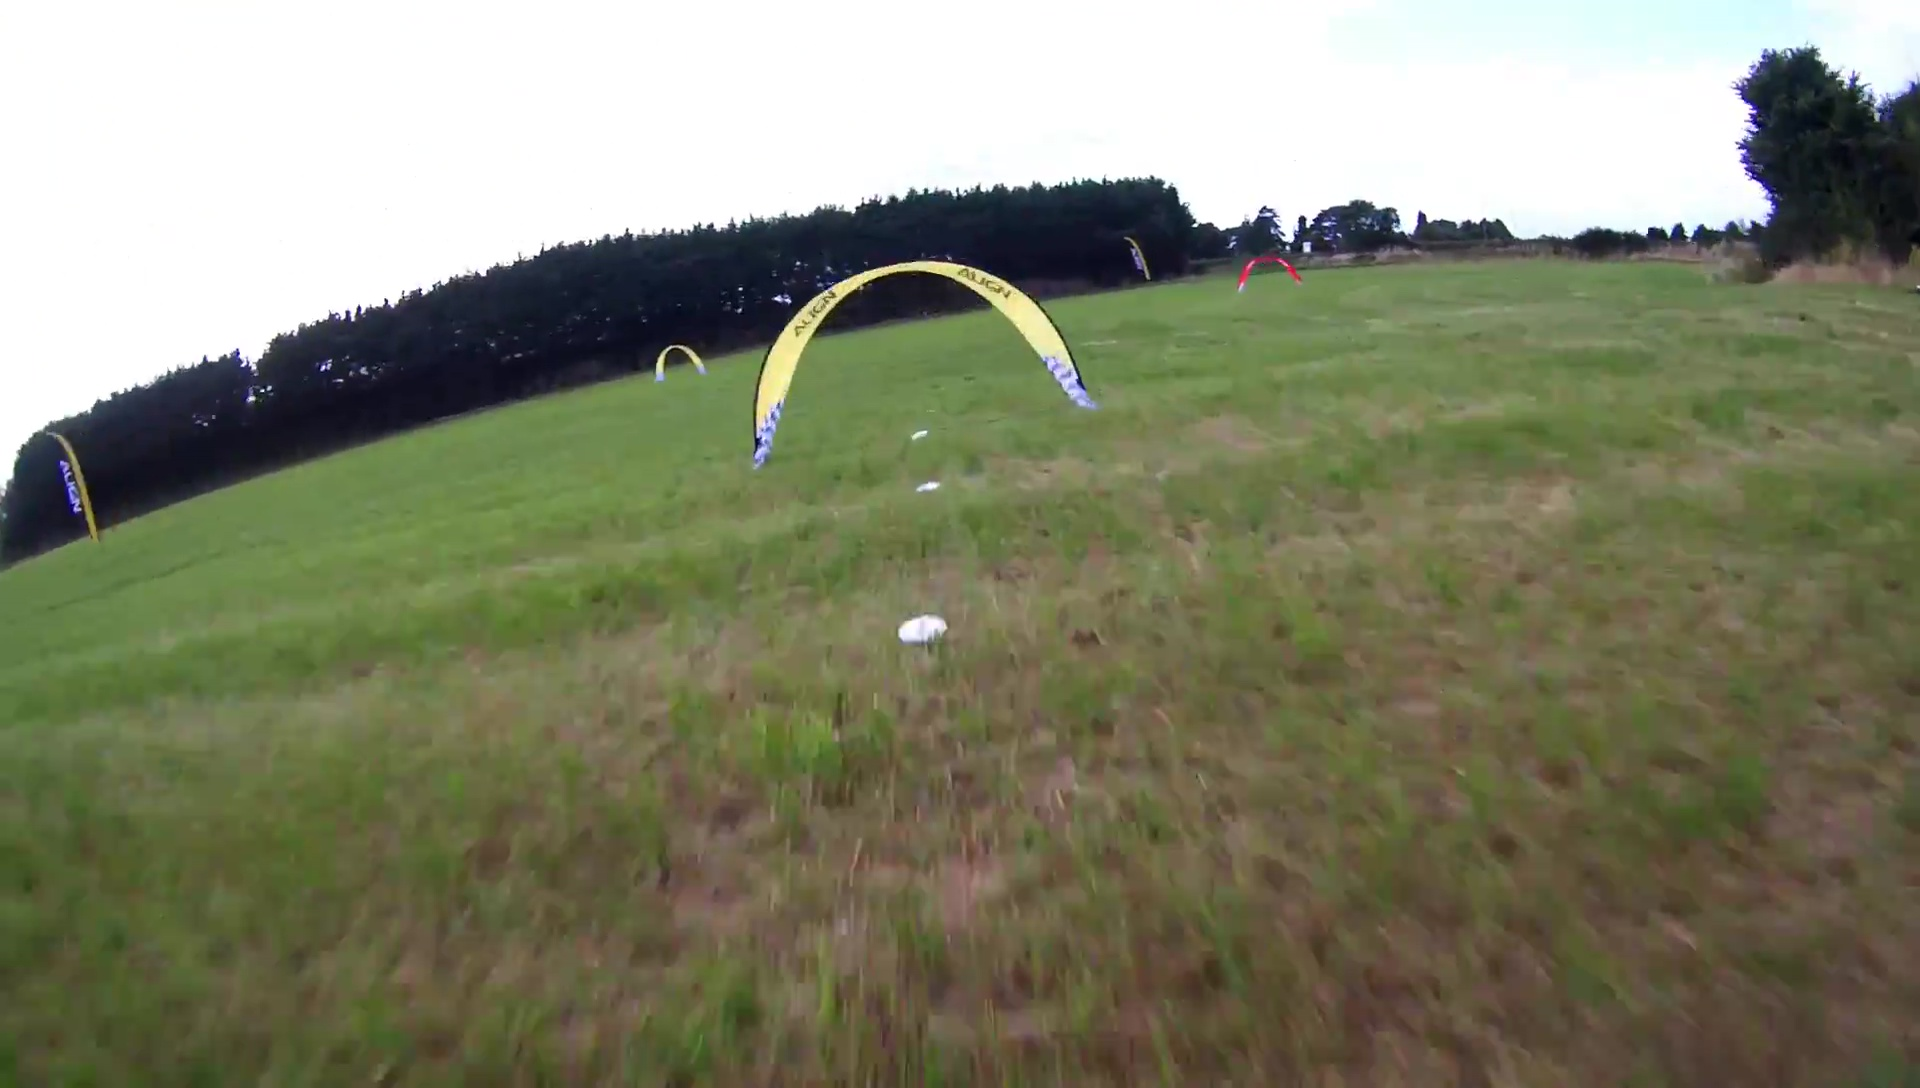gate: (750, 260, 1093, 469), (1234, 253, 1304, 295), (651, 343, 705, 384)
